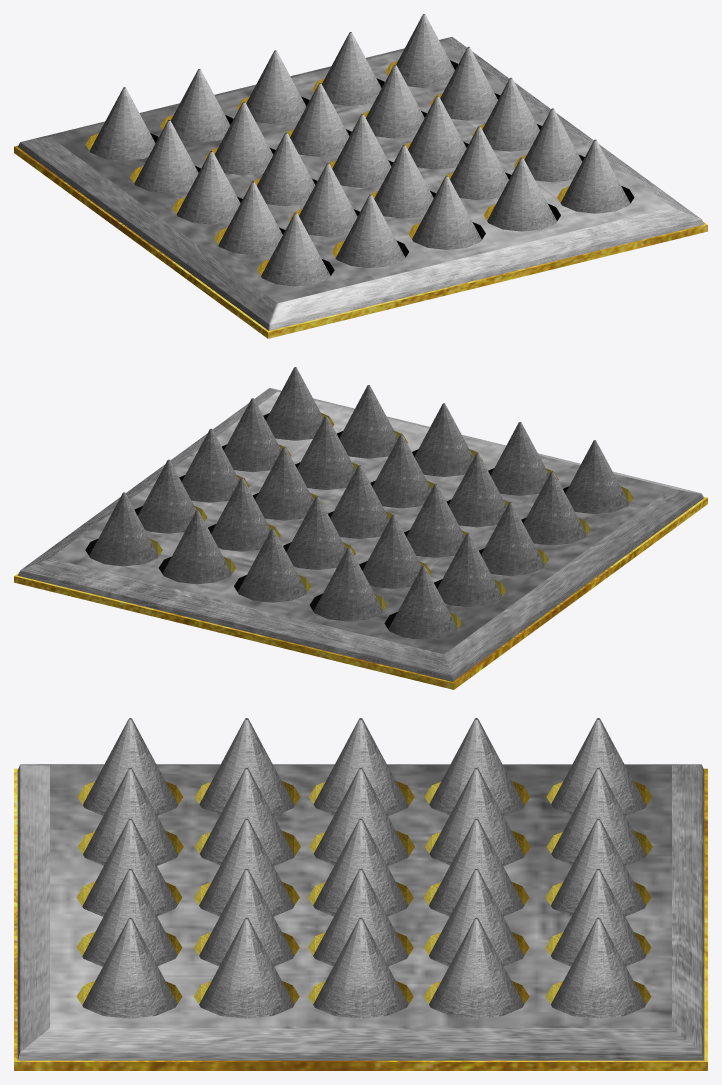
The model's file is SpikeTrap_01.glb.
3 views of the same model, one above another, from view 1: azimuth 30°, elevation 25°; view 2: azimuth 150°, elevation 25°; view 3: azimuth 270°, elevation 25° (orthographic). The views are drawn at different scales.
Visible parts, largest first — view 1: Spikes, Base; view 2: Spikes, Base; view 3: Base, Spikes.
Boxes of the visible parts, x1=… form: Spikes: x1=89, y1=14, x2=630, y2=286; Base: x1=14, y1=37, x2=707, y2=338; Spikes: x1=89, y1=367, x2=629, y2=639; Base: x1=14, y1=388, x2=707, y2=689; Base: x1=14, y1=764, x2=707, y2=1070; Spikes: x1=82, y1=718, x2=646, y2=1018.
Size of the model in its own units: 2.02 by 0.3401 by 2.02.
Materials: 2 (2 with a texture image).
